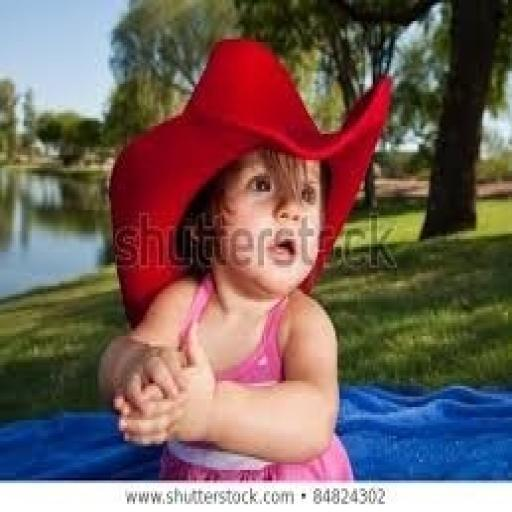clapping: (95, 34, 395, 481)
